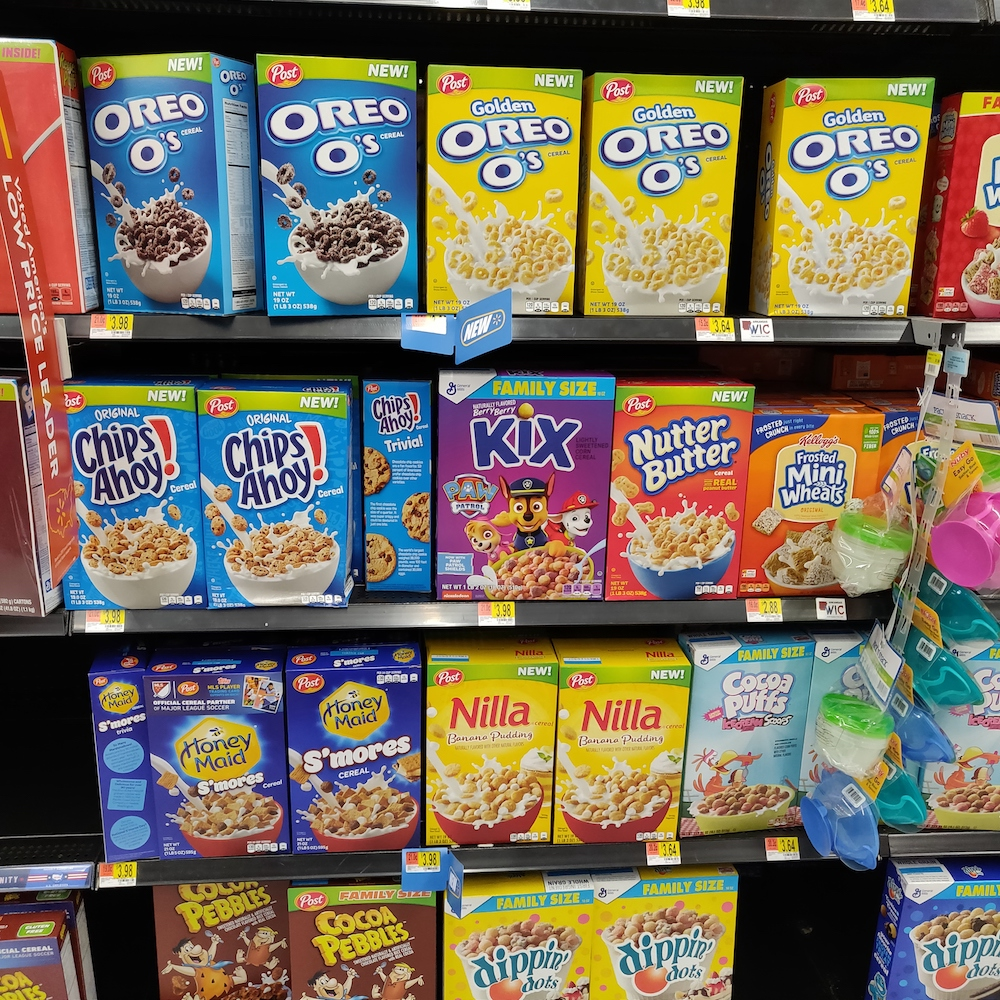Chips Ahoys-565717529: (46, 381, 209, 598), (192, 384, 352, 605)
Cocoa Pebbles-555517893: (283, 891, 438, 998), (158, 884, 296, 1000)
Cocoa Puffs Ice Cream-563408546: (685, 644, 800, 834)
Dippin Dots Banana-568929376: (587, 877, 739, 1000), (447, 898, 589, 1000)
Dippin Dots Cookies & Cream -568929378: (883, 879, 1000, 994)
Honey Maid Graham -563424385: (145, 676, 290, 852), (287, 663, 426, 842)
Kix Berry -568919964: (431, 376, 616, 603)
Nilla -568301014: (424, 649, 555, 844), (560, 648, 682, 841)
Nutter Butter-565717511: (610, 388, 750, 597)
Oreo Golden-568301011: (767, 99, 930, 325), (432, 80, 574, 319), (589, 81, 728, 314)
Oreo-563424384: (79, 65, 247, 305), (260, 71, 421, 319)
